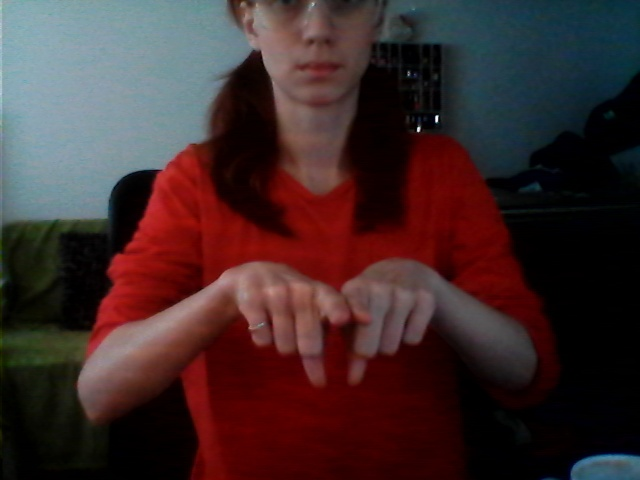sestra: (220, 236, 450, 398)
